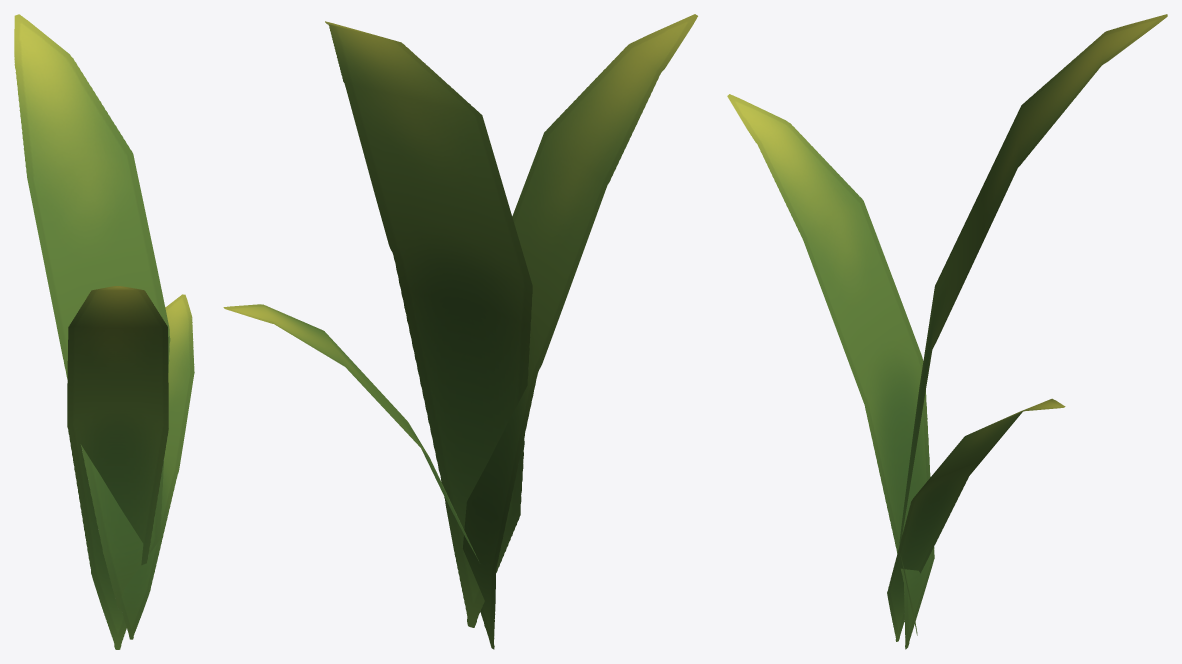
The model's file is greenFoliage_3.fbx.
The picture shows the model from 3 angles, left to right: view 1: azimuth 30°, elevation 25°; view 2: azimuth 150°, elevation 25°; view 3: azimuth 270°, elevation 25°; orthographic projection. The views are drawn at different scales.
Visible parts, largest first — view 1: greenFoliage_3; view 2: greenFoliage_3; view 3: greenFoliage_3.
Part boxes in pixels (bbox=[...]): greenFoliage_3: bbox=[14, 14, 194, 649]; greenFoliage_3: bbox=[223, 14, 697, 649]; greenFoliage_3: bbox=[727, 14, 1167, 649].
Bounding box in the file's own units: 0.1673 × 0.411 × 0.2564.
